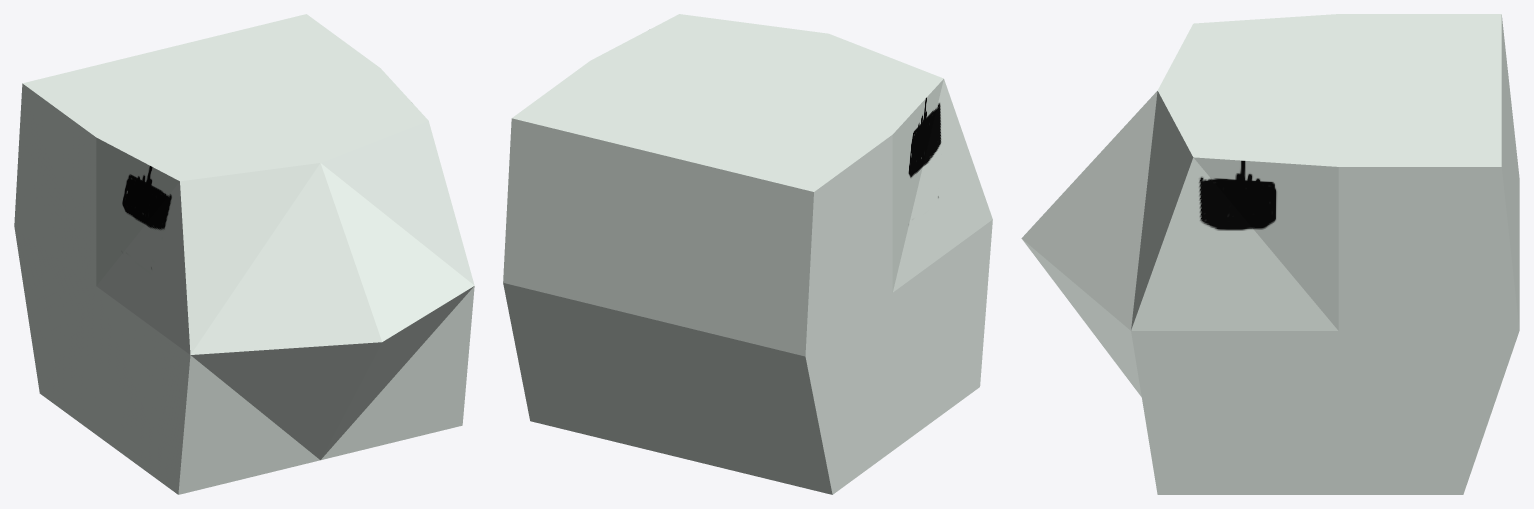
File: PlayerFace.obj
3 views of the same model, side by side, from view 1: azimuth 30°, elevation 25°; view 2: azimuth 150°, elevation 25°; view 3: azimuth 270°, elevation 25° (orthographic). The views are drawn at different scales.
Parts seen in each view (by area): view 1: Cube.001; view 2: Cube.001; view 3: Cube.001.
Boxes of the visible parts, bbox=[...] form: Cube.001: bbox=[14, 14, 474, 494]; Cube.001: bbox=[503, 14, 992, 494]; Cube.001: bbox=[1021, 14, 1519, 494].
Bounding box in the file's own units: 0.4 × 0.4 × 0.5505.
Materials: 1 (1 with a texture image).
